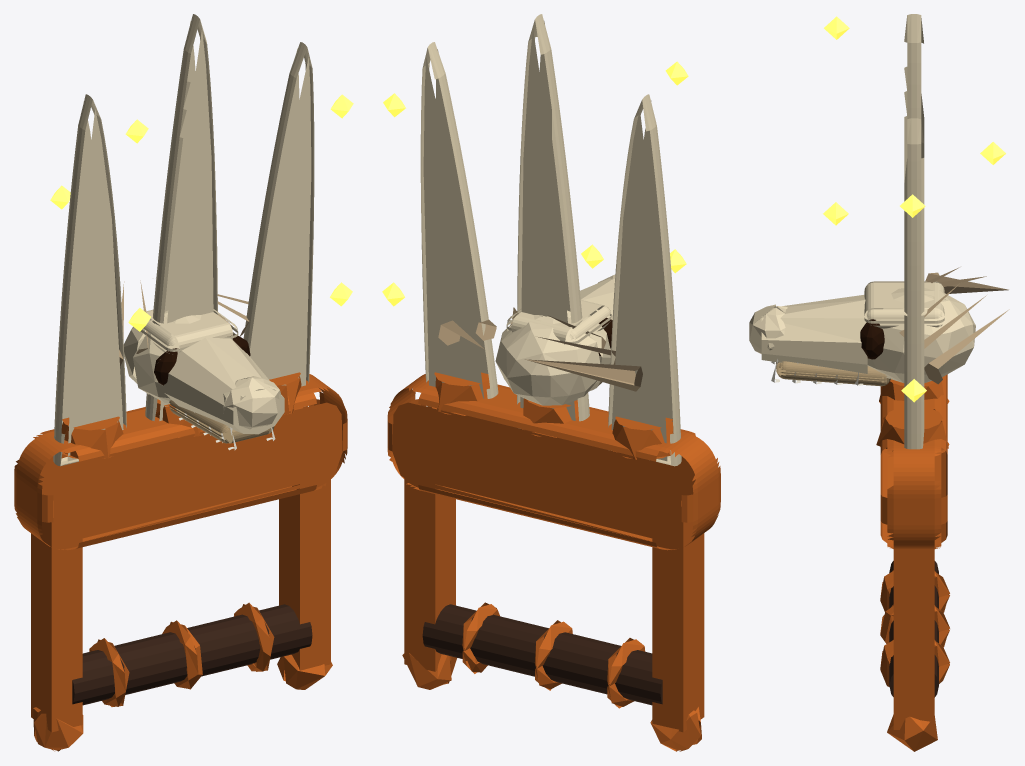
Rendered from dragonclaw_fists.glb.
3 views of the same model, side by side, from view 1: azimuth 30°, elevation 25°; view 2: azimuth 150°, elevation 25°; view 3: azimuth 270°, elevation 25° (orthographic). The views are drawn at different scales.
Parts seen in each view (by area): view 1: dragonclaw_fists; view 2: dragonclaw_fists; view 3: dragonclaw_fists.
Boxes of the visible parts, bbox=[...] form: dragonclaw_fists: bbox=[14, 14, 353, 751]; dragonclaw_fists: bbox=[382, 14, 720, 751]; dragonclaw_fists: bbox=[749, 14, 1009, 751].
Bounding box in the file's own units: 0.5551 × 1.14 × 0.3933.
